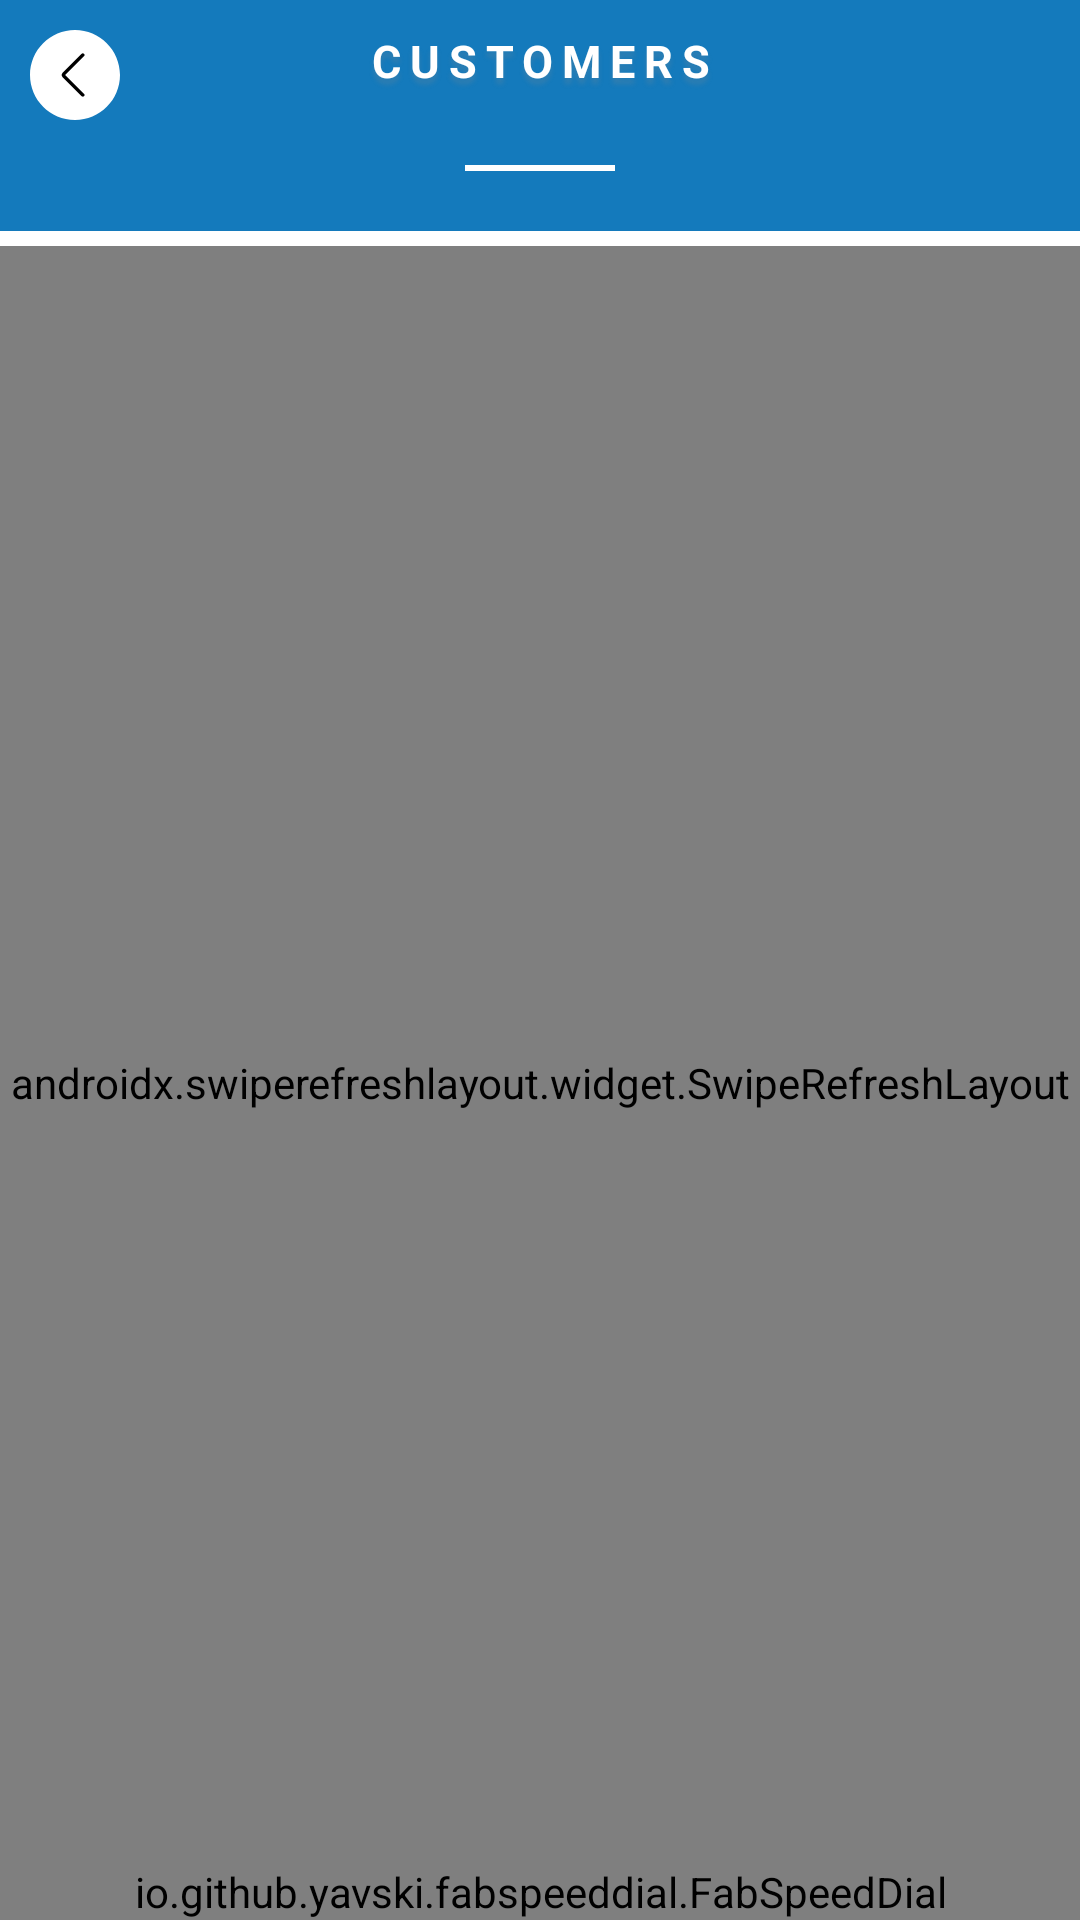

Locate icon controls on the screen. Image size 1080×1920, boxes as (x1, y1, x2, y2).
left arrow: (30, 30, 120, 120)
